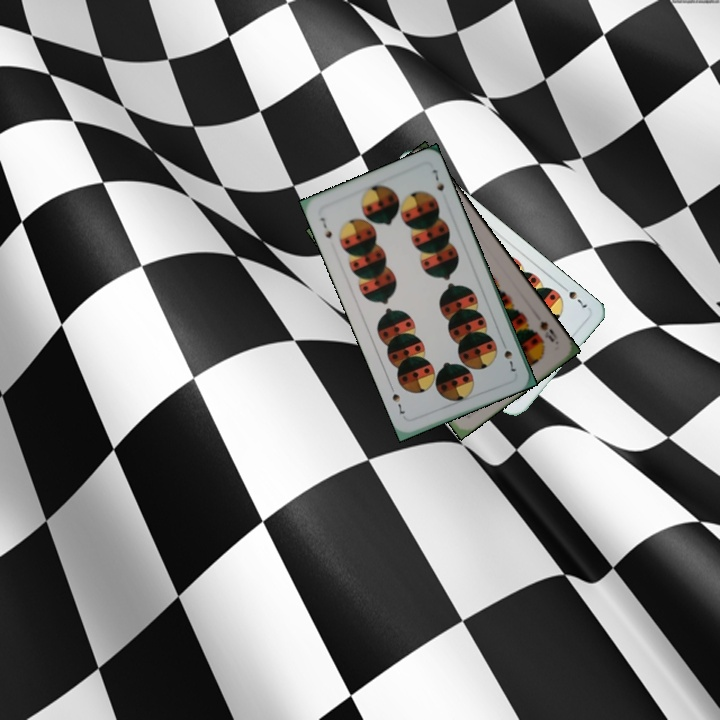S7: (557, 281, 590, 310), (498, 337, 519, 374), (316, 213, 334, 241)
S8: (536, 317, 560, 345)
